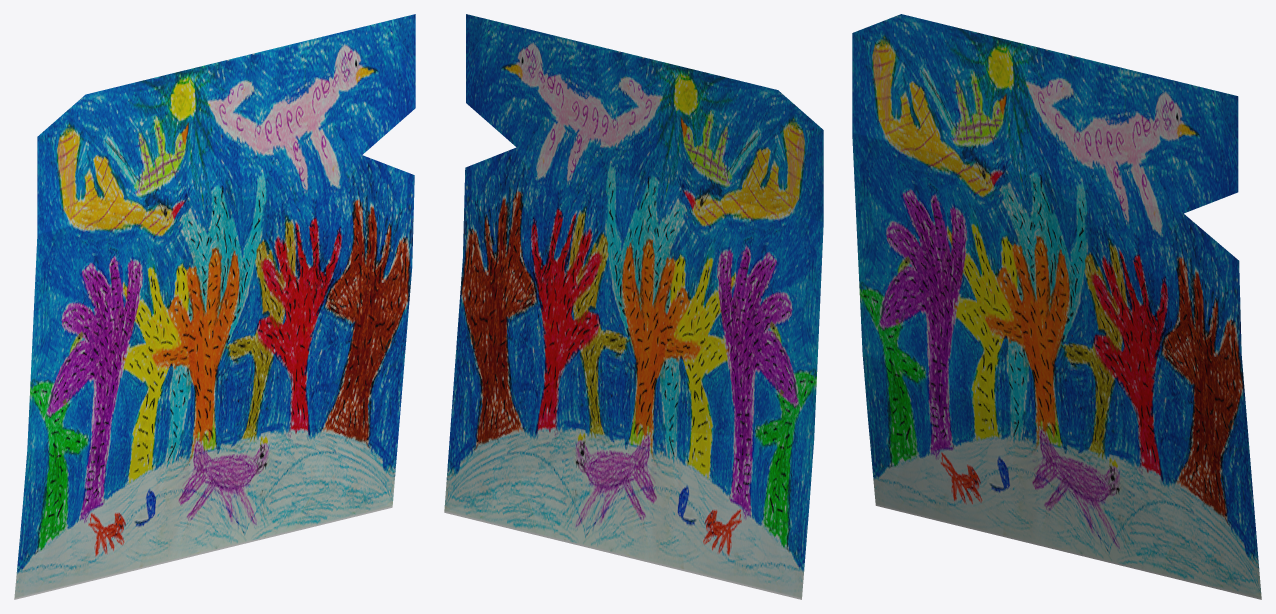
File: SM_ChildArt1.fbx
The picture shows the model from 3 angles, left to right: view 1: azimuth 30°, elevation 25°; view 2: azimuth 150°, elevation 25°; view 3: azimuth 330°, elevation 25°; orthographic projection. The views are drawn at different scales.
Parts seen in each view (by area): view 1: SM_ChildArt1; view 2: SM_ChildArt1; view 3: SM_ChildArt1.
Boxes of the visible parts, x1,y1,x2,y2 form: SM_ChildArt1: [14, 14, 415, 599]; SM_ChildArt1: [444, 14, 823, 599]; SM_ChildArt1: [852, 14, 1261, 599].
Bounding box in the file's own units: 21.59 × 27.85 × 2.28.
